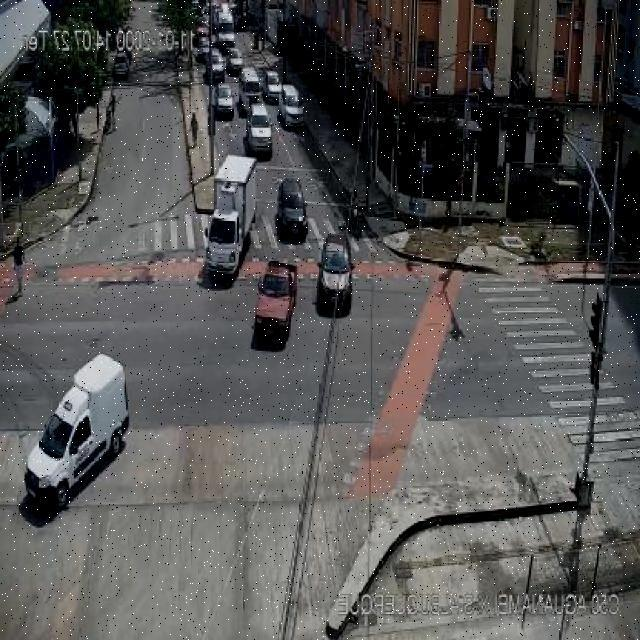Bus: (240, 67, 262, 101)
Car: (252, 260, 299, 348), (316, 229, 355, 316), (275, 178, 307, 241), (245, 105, 273, 155), (279, 88, 304, 128), (214, 85, 236, 119), (206, 51, 226, 83), (263, 70, 283, 102), (193, 31, 211, 63), (113, 53, 130, 81), (227, 48, 244, 74)
Truck: (17, 354, 134, 505), (199, 159, 268, 275)
